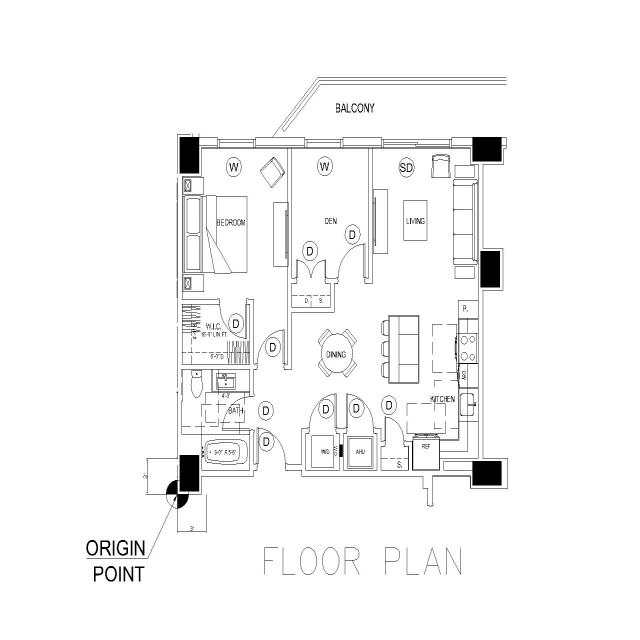Column: (471, 135, 504, 163), (479, 250, 501, 290), (178, 453, 200, 493), (471, 459, 503, 486), (179, 136, 200, 174)
Door: (256, 462, 287, 470), (308, 426, 338, 434), (295, 277, 327, 284), (336, 276, 366, 283), (257, 363, 284, 370), (218, 298, 248, 304), (249, 394, 254, 430), (345, 427, 375, 433), (384, 439, 405, 447)
Staircase: (381, 135, 454, 149)
Window: (306, 138, 342, 150), (218, 138, 254, 148)
